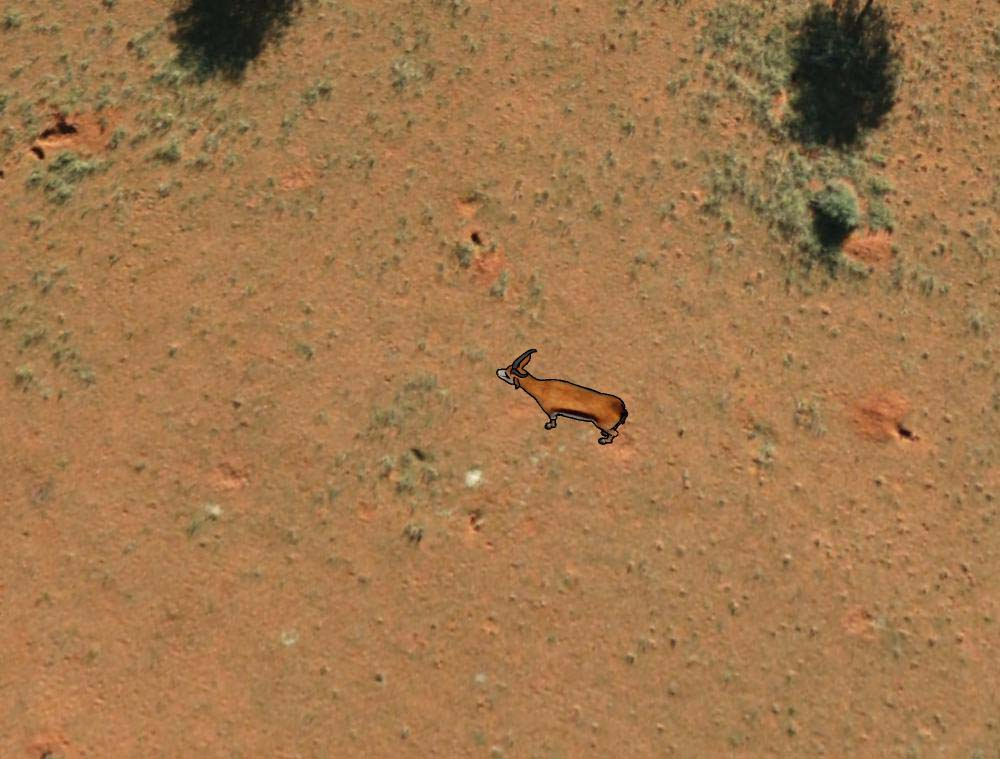springbok: (492, 349, 633, 448)
